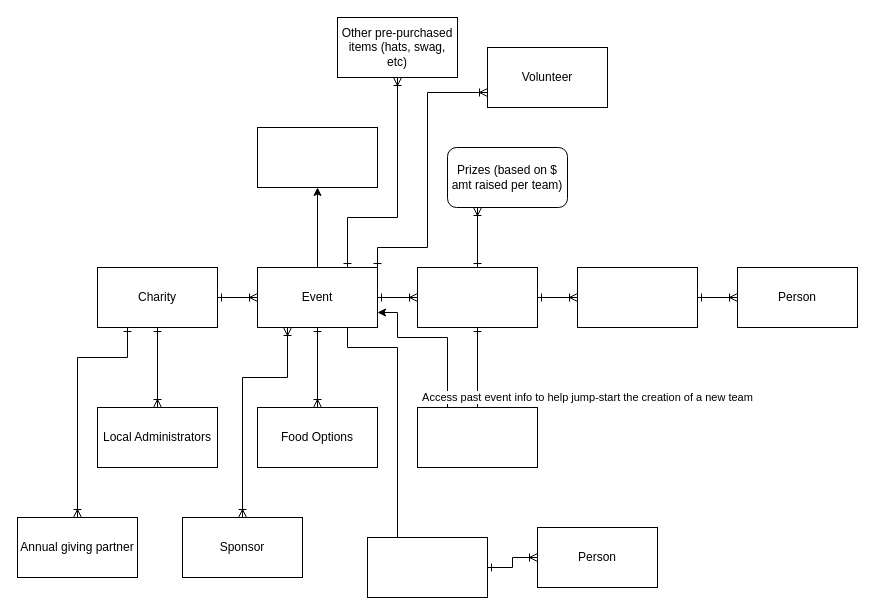
Image size: 875x615. Some labels were removed from this diagram. The centre of each missing label's shape, as x and y in pixels:
"Non-affiliated registrant" goes at pixel 427 567.
"Owner" goes at pixel 477 437.
"T-shirt options" goes at pixel 317 157.
"Team" goes at pixel 477 297.
"Team Registrant" goes at pixel 637 297.
